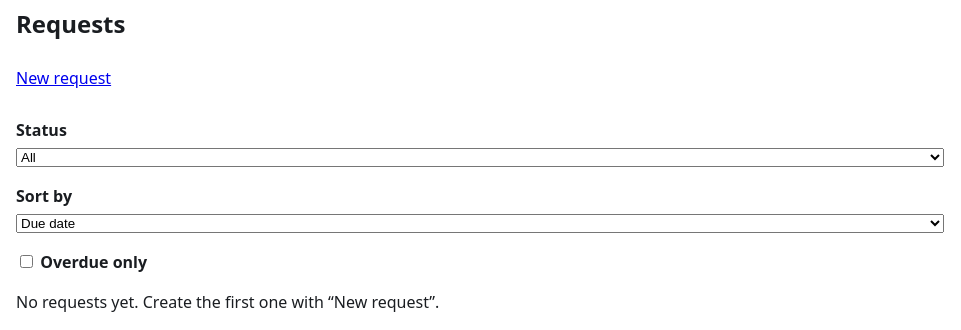
Test: RequestListPage › shows a different empty state when filters match nothing
Select "Complete" in the dropdown labelled "Status" at [480, 157], box [16,148,944,167]
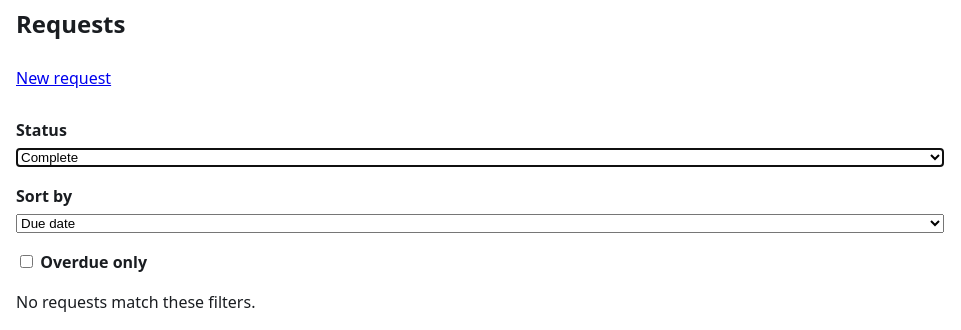
Expected: the text "No requests match these filters." is shown, [16,291,255,313]
